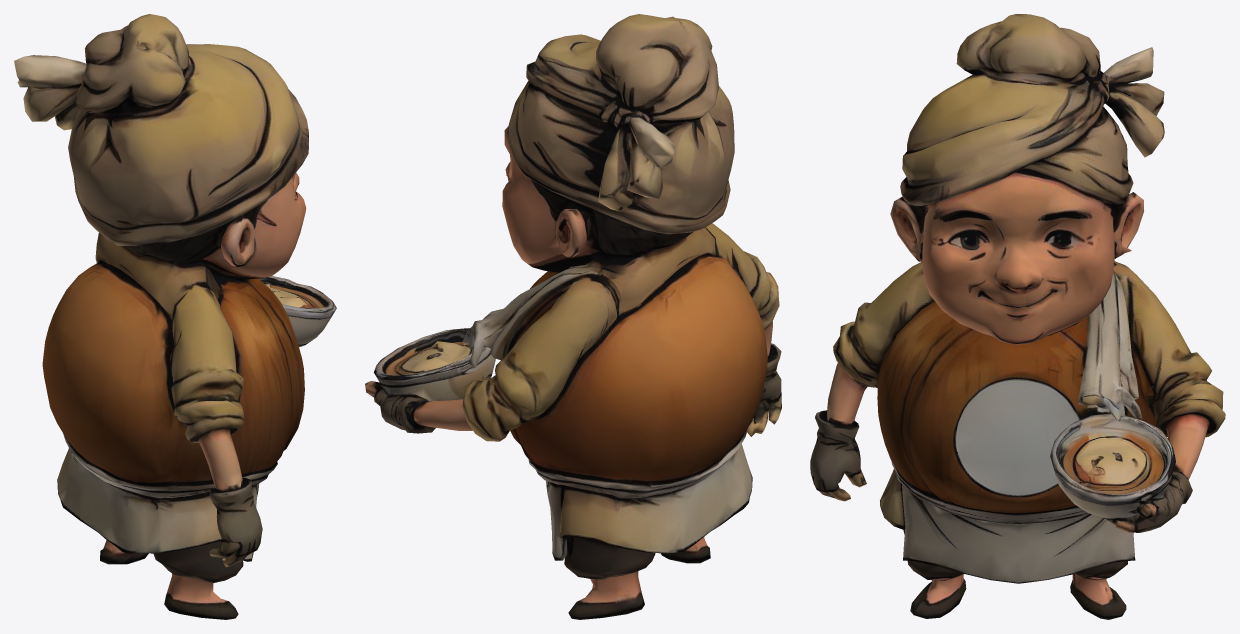
Rendered from n_douhua.glb.
3 renders of one model, left to right at view 1: azimuth 30°, elevation 25°; view 2: azimuth 150°, elevation 25°; view 3: azimuth 270°, elevation 25°, orthographic. The views are drawn at different scales.
Visible parts, largest first — view 1: tripo_node_d207a6e9-089c-4a07-98a9-1b9d5227ad4b; view 2: tripo_node_d207a6e9-089c-4a07-98a9-1b9d5227ad4b; view 3: tripo_node_d207a6e9-089c-4a07-98a9-1b9d5227ad4b.
Boxes of the visible parts, x1=… form: tripo_node_d207a6e9-089c-4a07-98a9-1b9d5227ad4b: x1=14, y1=14, x2=336, y2=619; tripo_node_d207a6e9-089c-4a07-98a9-1b9d5227ad4b: x1=365, y1=14, x2=781, y2=619; tripo_node_d207a6e9-089c-4a07-98a9-1b9d5227ad4b: x1=810, y1=14, x2=1225, y2=619.
Bounding box in the file's own units: 0.5695 × 1 × 0.6464.
Materials: 1 (1 with a texture image).
